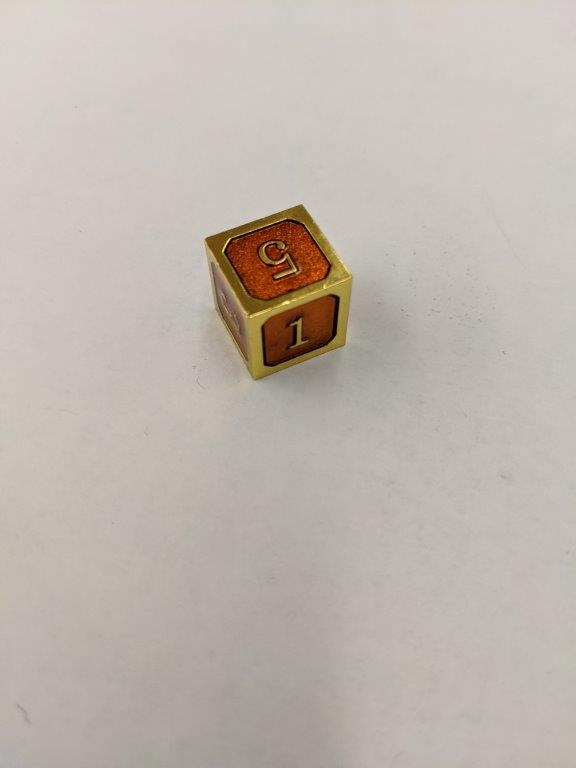d6-5: (207, 204, 352, 383)
